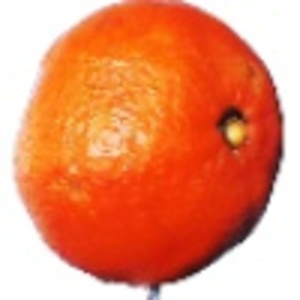tangerina: (11, 1, 287, 300)
